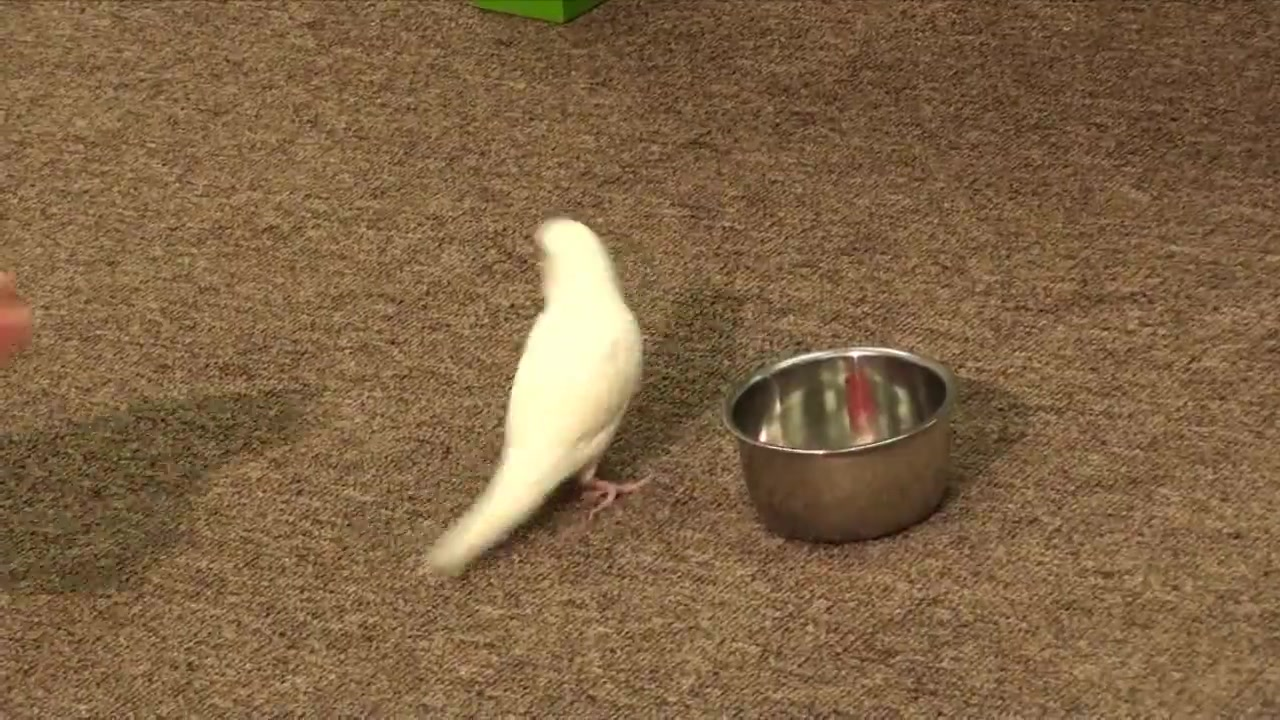bird: (425, 218, 649, 581)
